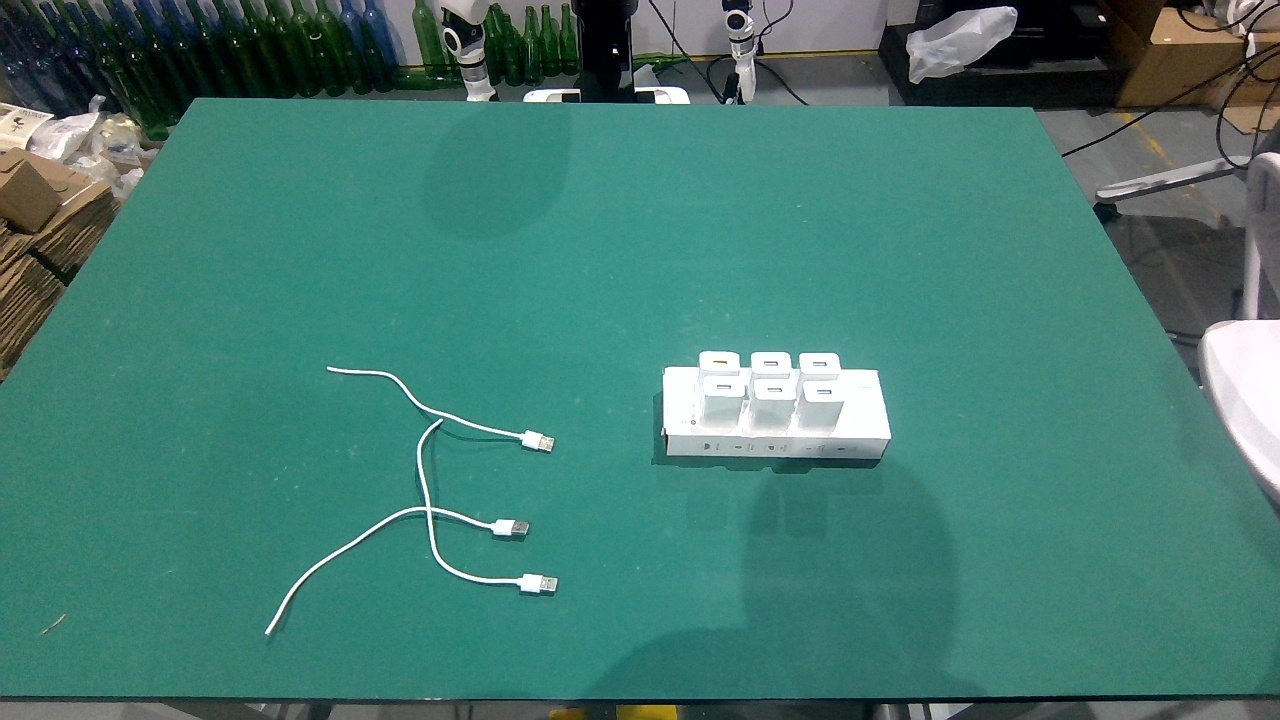usb_a_plug: (502, 423, 558, 456), (503, 571, 557, 594), (477, 518, 530, 536)
